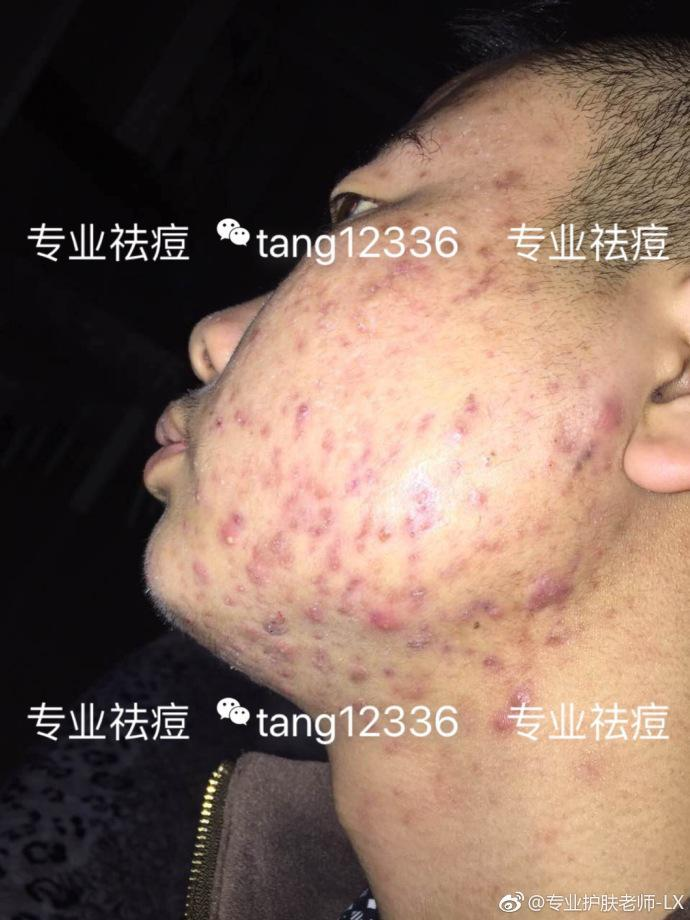fore: (453, 566, 512, 621), (467, 695, 522, 746), (522, 564, 571, 621), (382, 544, 431, 597), (312, 505, 363, 554), (265, 515, 304, 576), (584, 382, 624, 431), (392, 501, 437, 544), (490, 150, 525, 201), (219, 505, 261, 546), (257, 423, 294, 468), (370, 434, 416, 470), (359, 599, 402, 637), (434, 549, 474, 587), (469, 523, 512, 558), (288, 401, 323, 444), (534, 619, 574, 656), (467, 238, 502, 280), (565, 435, 601, 475), (457, 476, 492, 517), (451, 417, 490, 452), (267, 629, 302, 668), (229, 612, 269, 646), (235, 399, 267, 438), (182, 550, 221, 582), (490, 199, 525, 234), (312, 427, 345, 464), (595, 449, 632, 482), (376, 660, 410, 695), (465, 648, 502, 680), (286, 329, 316, 368), (181, 483, 215, 517), (329, 578, 357, 619), (325, 327, 362, 357), (312, 295, 346, 327), (288, 586, 314, 627), (314, 642, 345, 676), (341, 644, 363, 691), (386, 248, 418, 280), (535, 371, 569, 401), (196, 605, 227, 636), (410, 480, 439, 513), (280, 497, 314, 525), (201, 411, 233, 440), (404, 615, 427, 654), (345, 454, 369, 491), (447, 391, 480, 417), (241, 324, 273, 349), (253, 599, 286, 623), (367, 507, 386, 548), (453, 280, 484, 305), (351, 283, 369, 325), (536, 450, 564, 477), (270, 679, 301, 703), (412, 401, 431, 438), (306, 548, 331, 576), (477, 345, 502, 370), (215, 590, 243, 612), (486, 684, 533, 697), (551, 421, 569, 454), (177, 610, 199, 636), (306, 466, 325, 495), (345, 562, 369, 584), (229, 575, 251, 597), (249, 562, 267, 584)
